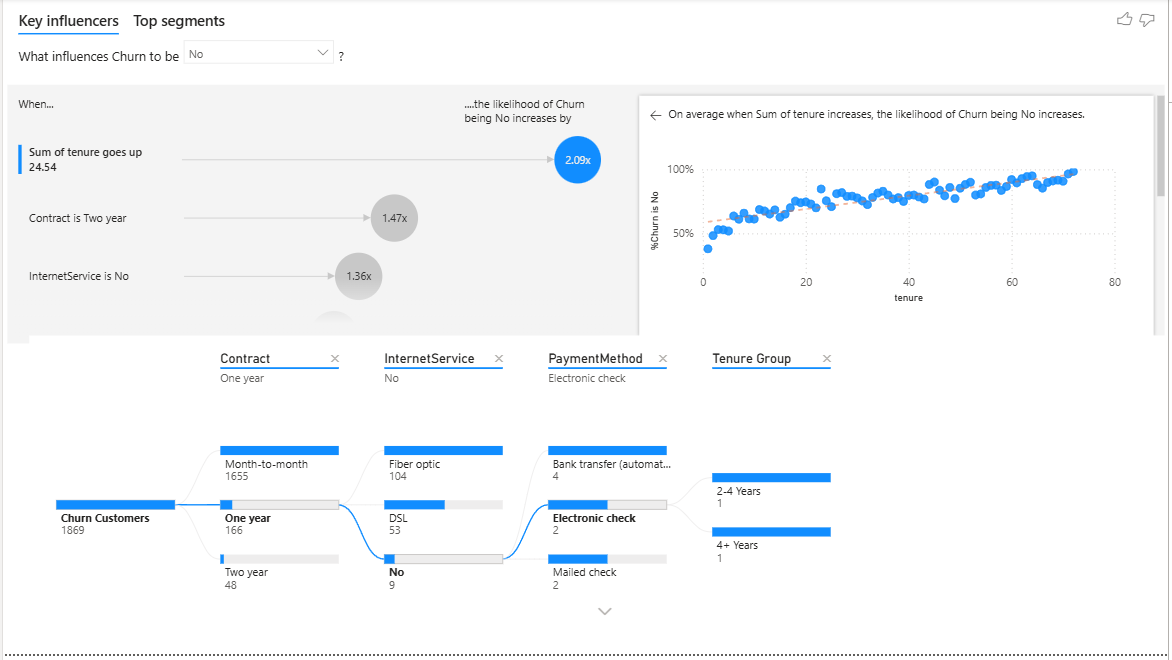

The page's visual inventory and layout, read from the dashboard file:
{"tool":"powerbi","page":{"name":"Page 2","canvas":[1280,720],"ordinal":1},"visuals":[{"type":"keyDriversVisual","fields":{"Target":["Customer.Churn"],"ExplainBy":["Customer.Contract","Customer.InternetService","Sum(Customer.tenure)","Customer.PaymentMethod"]},"box":[0,0,1280.3,384.2],"z":0},{"type":"decompositionTreeVisual","fields":{"Analyze":["Customer.Churn Customers"],"ExplainBy":["Customer.Contract","Customer.InternetService","Customer.PaymentMethod","Customer.Tenure Group"]},"box":[28.8,370.5,1251.5,349.9],"z":1}]}

Visuals, with their boxes in screenshot pixels (x1, y1, x2, y2), scaled from the page's 1280x720 canvas onto the 1172x660 screenshot:
keyDriversVisual - Customer.Churn x Customer.Contract: x1=0, y1=0, x2=1171, y2=352
decompositionTreeVisual - Customer.Churn Customers x Customer.Contract: x1=26, y1=340, x2=1171, y2=659
